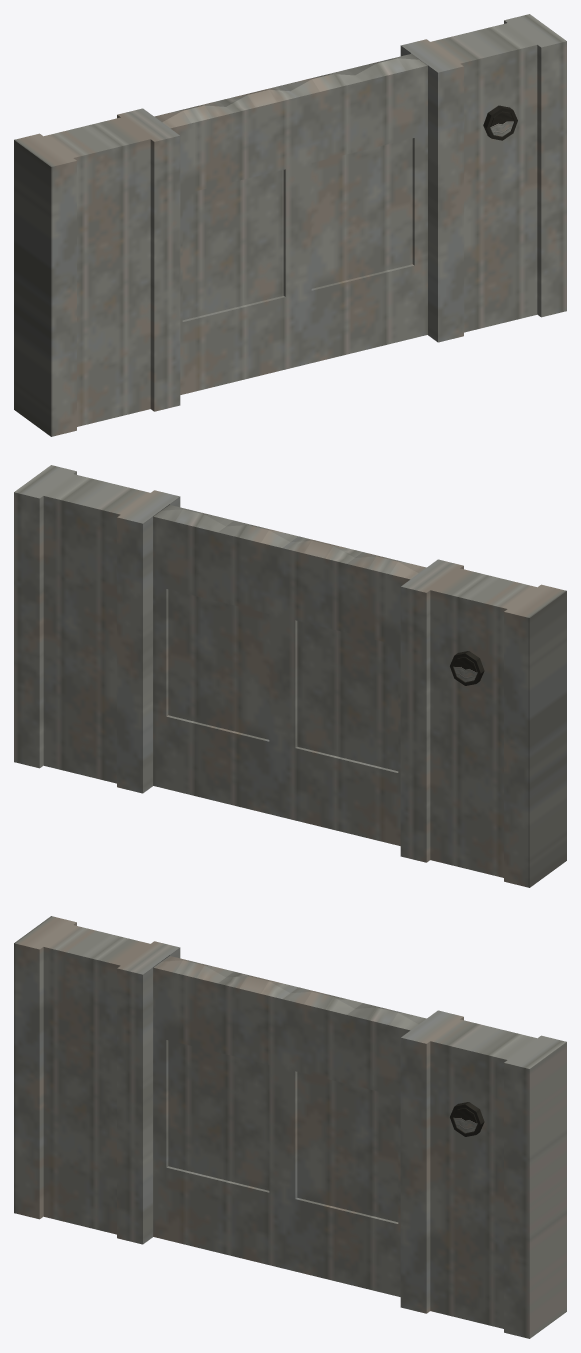
The model's file is Door.fbx.
The picture shows the model from 3 angles, top to bottom: view 1: azimuth 30°, elevation 25°; view 2: azimuth 150°, elevation 25°; view 3: azimuth 330°, elevation 25°; orthographic projection.
Parts seen in each view (by area): view 1: Walls, Gate; view 2: Walls, Gate; view 3: Walls, Gate.
Boxes of the visible parts, x1,y1,x2,y2 form: Walls: [14, 14, 566, 436]; Gate: [154, 54, 427, 394]; Walls: [14, 465, 566, 887]; Gate: [153, 505, 426, 845]; Walls: [14, 916, 566, 1338]; Gate: [153, 956, 426, 1296].
Bounding box in the file's own units: 800 × 409 × 100.
